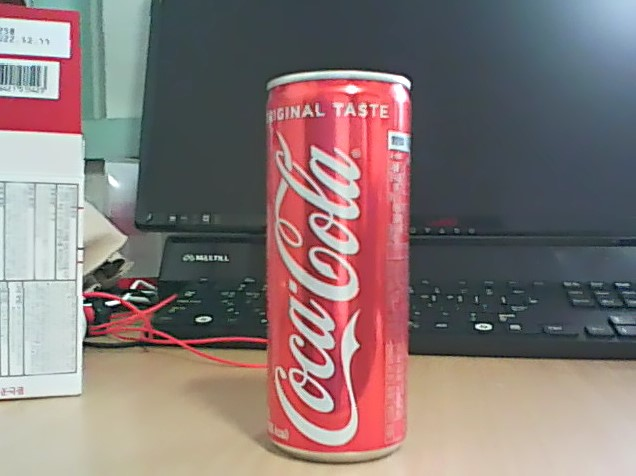Can: (256, 60, 415, 468)
